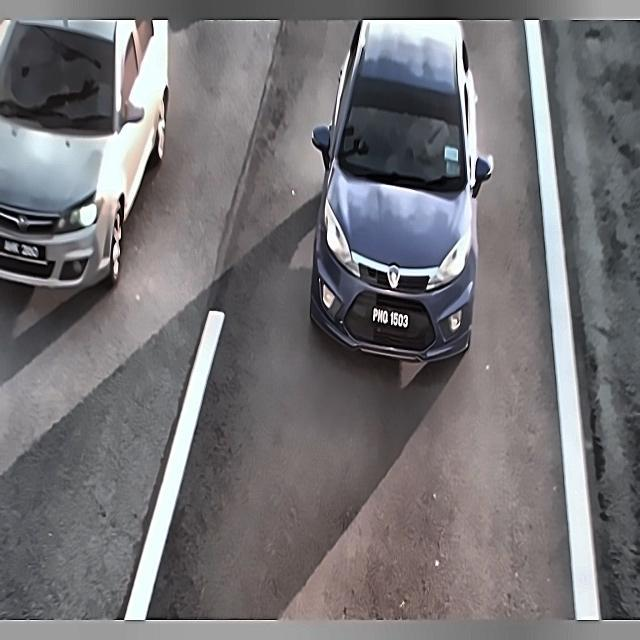car: (368, 304, 414, 339), (0, 236, 44, 270)
